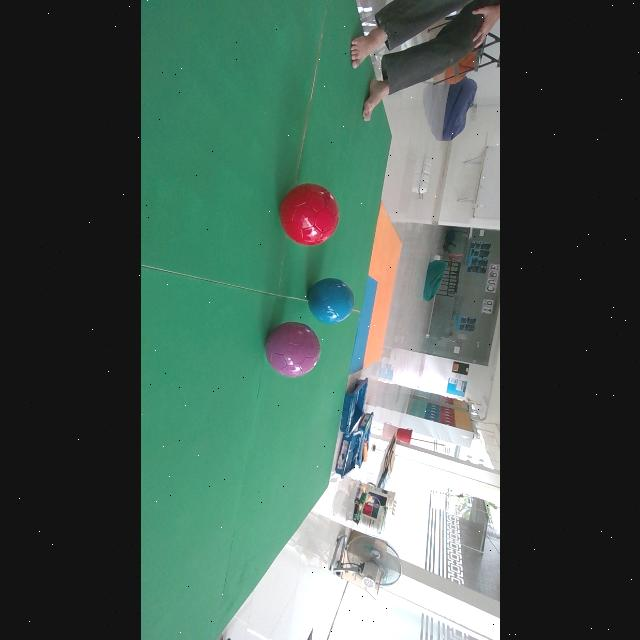B: (308, 279, 354, 322)
P: (265, 322, 321, 378)
R: (279, 183, 339, 246)
